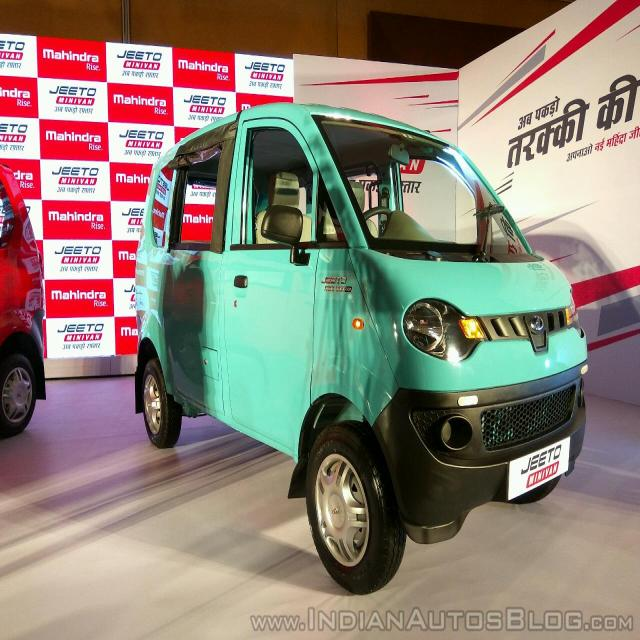truck: (135, 105, 588, 592)
